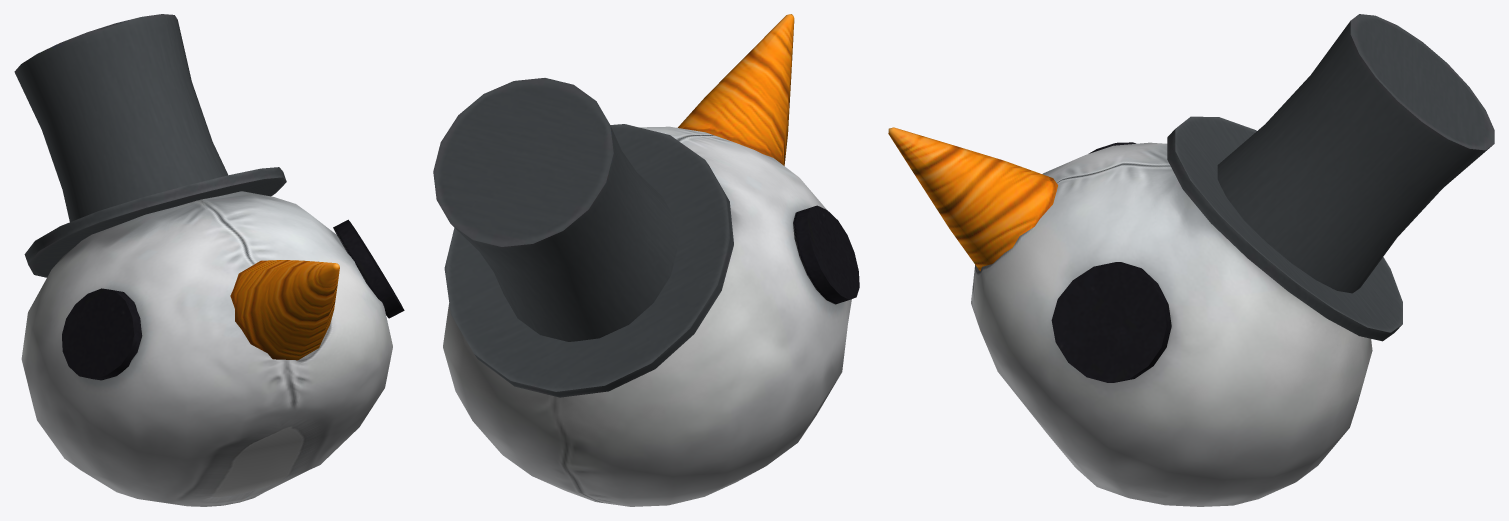
3 views of the same model, side by side, from view 1: azimuth 30°, elevation 25°; view 2: azimuth 150°, elevation 25°; view 3: azimuth 270°, elevation 25° (orthographic). The views are drawn at different scales.
Visible parts, largest first — view 1: Wolf3D_Headwear; view 2: Wolf3D_Headwear; view 3: Wolf3D_Headwear.
Part boxes in pixels (x1=…): Wolf3D_Headwear: x1=14, y1=14, x2=404, y2=506; Wolf3D_Headwear: x1=433, y1=14, x2=859, y2=506; Wolf3D_Headwear: x1=888, y1=14, x2=1494, y2=506.
Bounding box in the file's own units: 0.4061 × 0.492 × 0.5926.
1 material, 1 textured.
